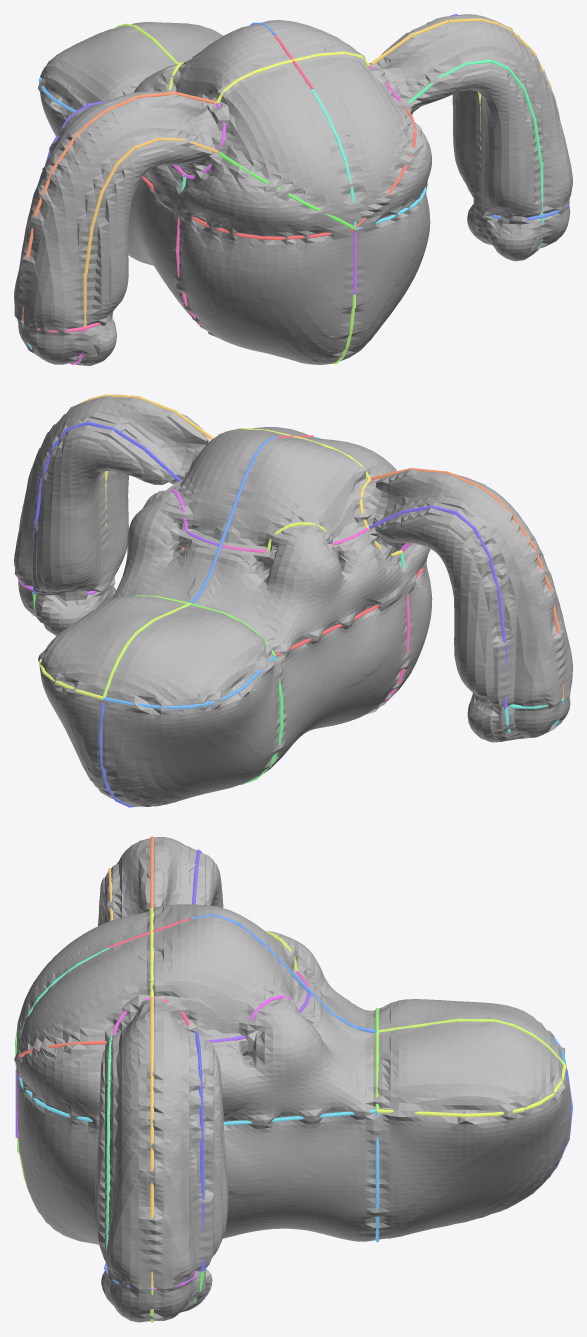
The model's file is scaffolds3d_dog.gltf.
3 renders of one model, top to bottom at view 1: azimuth 30°, elevation 25°; view 2: azimuth 150°, elevation 25°; view 3: azimuth 270°, elevation 25°, orthographic. The views are drawn at different scales.
Size of the model in its own units: 0.7214 by 0.3768 by 0.5928.
